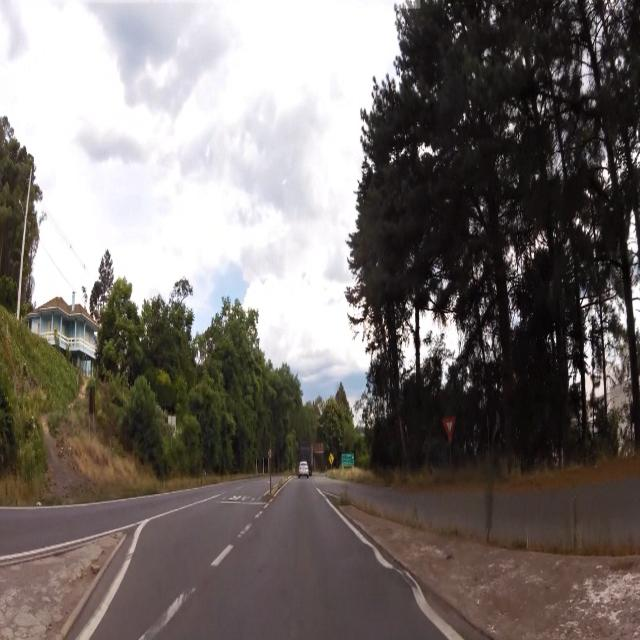R-2: (440, 409, 460, 444)
